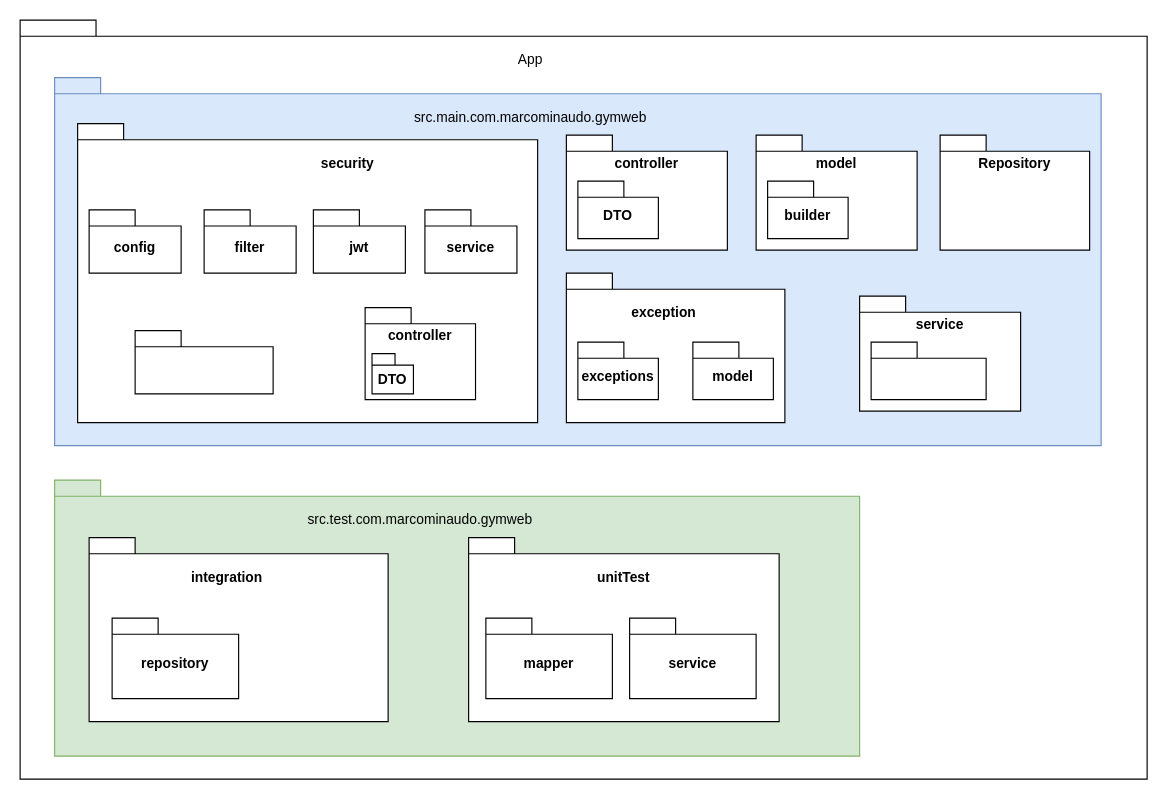
The diagram is 1167 pixels wide and 799 high, and some of its shapes have lost their labels. The shapes that lost their labels are listed below. From the top down, each one's box as (x1, y1, x2, y2) in pixels, then its label:
(134, 329, 273, 394): customAnnotation
(870, 341, 986, 400): bookingSearch
